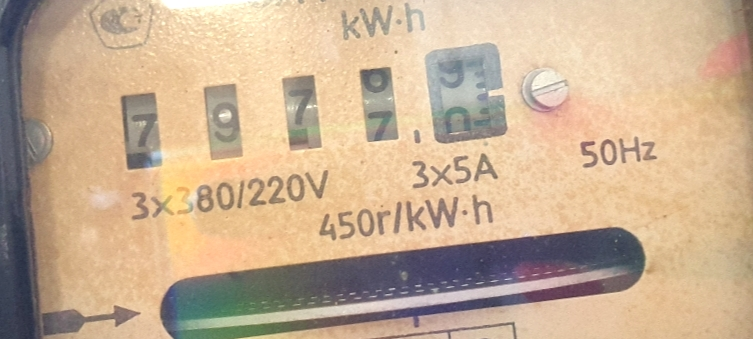0: (439, 97, 476, 139)
7: (284, 81, 320, 127), (127, 106, 162, 152), (364, 104, 398, 143)
9: (206, 95, 245, 144), (434, 50, 469, 89)
screen: (95, 17, 537, 208)
